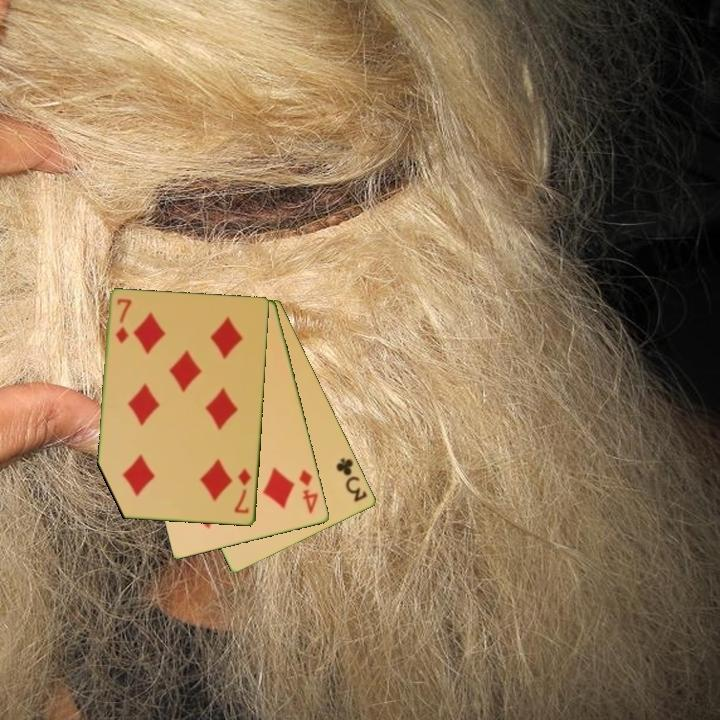3c: (333, 454, 370, 505)
4d: (296, 467, 321, 517)
7d: (231, 465, 254, 516), (112, 295, 134, 347)
